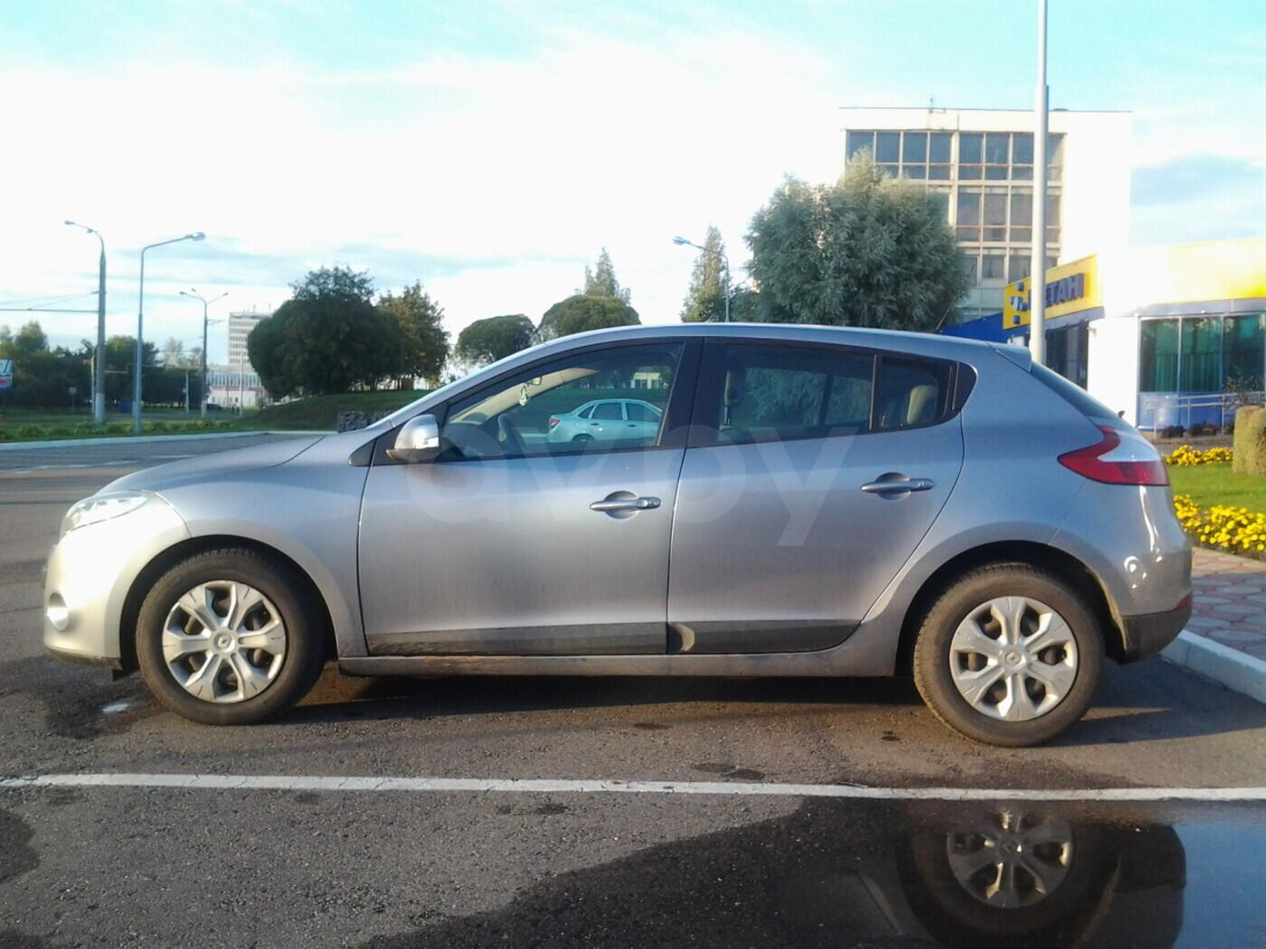Megane_2008-2014: (34, 311, 1192, 766)
